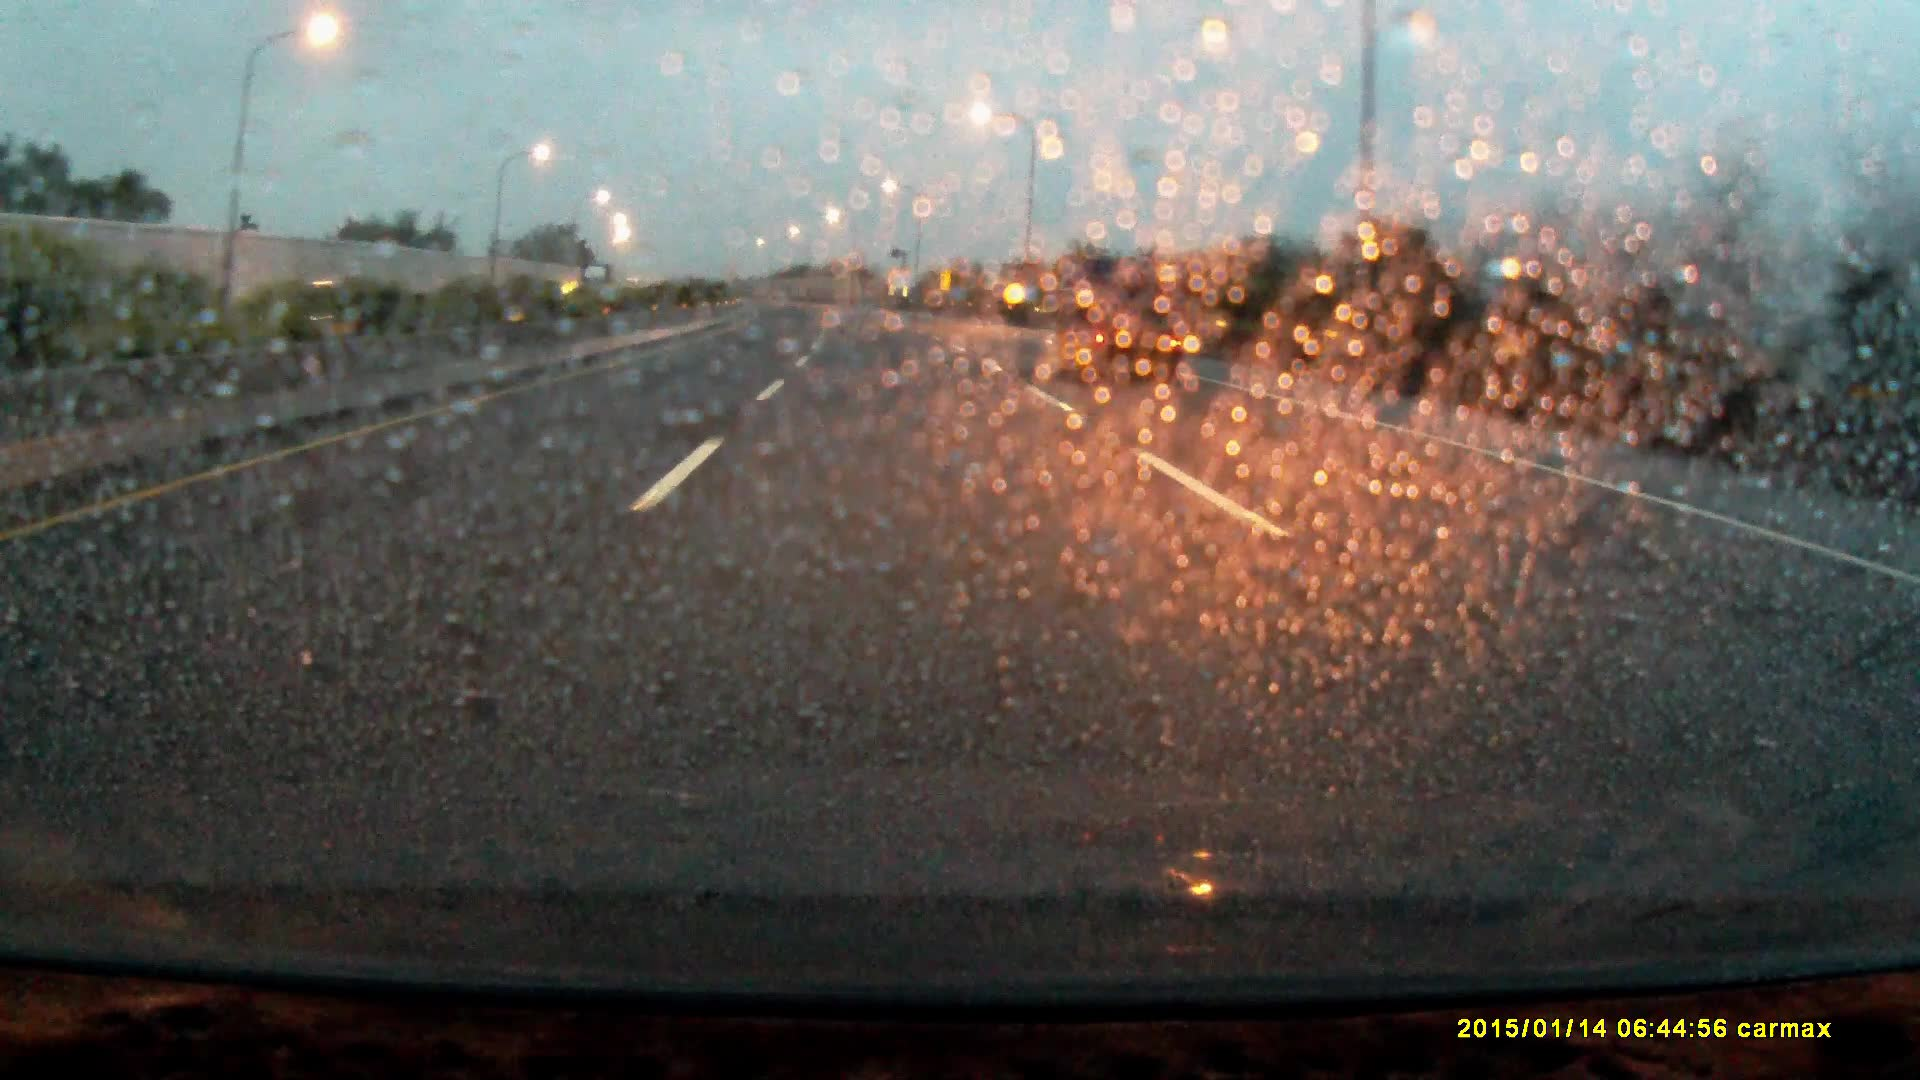vehicle: (1052, 258, 1189, 392), (580, 264, 615, 306)
